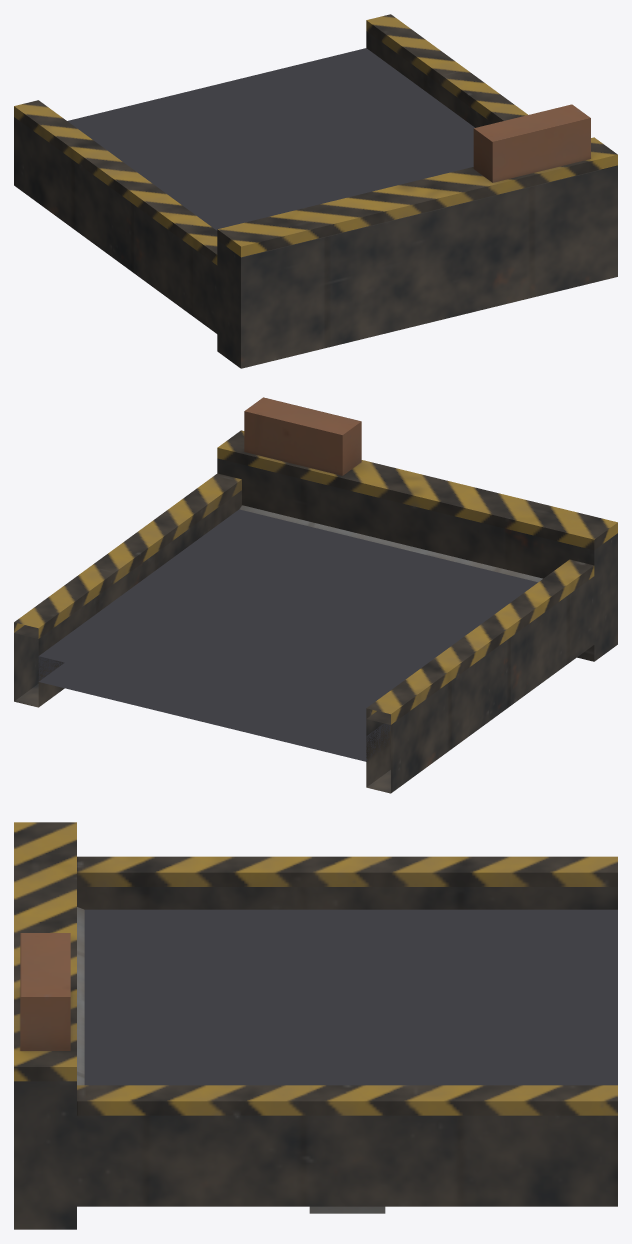
File: esteira_inicio.glb
3 renders of one model, top to bottom at view 1: azimuth 30°, elevation 25°; view 2: azimuth 150°, elevation 25°; view 3: azimuth 270°, elevation 25°, orthographic. The views are drawn at different scales.
Visible parts, largest first — view 1: esteira_inicio; view 2: esteira_inicio; view 3: esteira_inicio.
Boxes of the visible parts, <box> form: esteira_inicio: <box>14,14,617,368</box>; esteira_inicio: <box>14,397,617,793</box>; esteira_inicio: <box>14,822,617,1229</box>.
Bounding box in the file's own units: 0.92 × 0.38 × 0.96.
2 materials, 1 textured.
